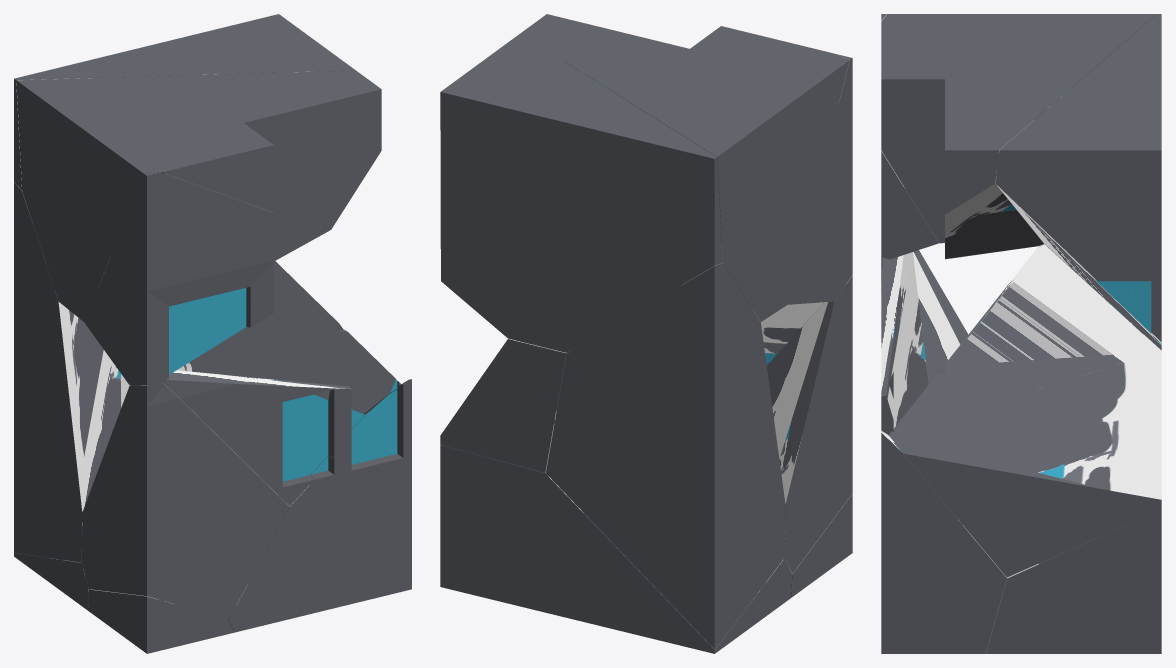
Rendered from test_hahen1.gltf.
The picture shows the model from 3 angles, left to right: view 1: azimuth 30°, elevation 25°; view 2: azimuth 150°, elevation 25°; view 3: azimuth 270°, elevation 25°; orthographic projection. The views are drawn at different scales.
Parts seen in each view (by area): view 1: bill_1_cell.003, bill_1_cell.006, bill_1_cell.011, bill_1_cell.004, bill_1_cell.009, bill_1_cell.010, bill_1_cell.005, bill_1_cell.012, bill_1_cell.001, bill_1_cell.008; view 2: bill_1_cell.012, bill_1_cell.004, bill_1_cell.003, bill_1_cell.008, bill_1_cell.006, bill_1_cell.005, bill_1_cell.011, bill_1_cell.001, bill_1_cell.010; view 3: bill_1_cell.005, bill_1_cell.003, bill_1_cell.012, bill_1_cell.009, bill_1_cell.008, bill_1_cell.010, bill_1_cell.006, bill_1_cell.011.
Part boxes in pixels (x1=…): bill_1_cell.003: x1=16, y1=70, x2=381, y2=321; bill_1_cell.006: x1=82, y1=382, x2=289, y2=618; bill_1_cell.011: x1=84, y1=172, x2=273, y2=385; bill_1_cell.004: x1=14, y1=182, x2=121, y2=562; bill_1_cell.009: x1=227, y1=379, x2=411, y2=632; bill_1_cell.010: x1=162, y1=370, x2=364, y2=506; bill_1_cell.005: x1=121, y1=261, x2=401, y2=413; bill_1_cell.012: x1=14, y1=14, x2=355, y2=190; bill_1_cell.001: x1=88, y1=589, x2=233, y2=653; bill_1_cell.008: x1=14, y1=552, x2=91, y2=610; bill_1_cell.012: x1=440, y1=33, x2=722, y2=352; bill_1_cell.004: x1=546, y1=263, x2=785, y2=649; bill_1_cell.003: x1=520, y1=14, x2=849, y2=321; bill_1_cell.008: x1=440, y1=445, x2=792, y2=653; bill_1_cell.006: x1=766, y1=275, x2=852, y2=573; bill_1_cell.005: x1=440, y1=338, x2=569, y2=472; bill_1_cell.011: x1=787, y1=54, x2=852, y2=304; bill_1_cell.001: x1=791, y1=494, x2=852, y2=597; bill_1_cell.010: x1=761, y1=302, x2=823, y2=364; bill_1_cell.005: x1=889, y1=244, x2=1161, y2=577; bill_1_cell.003: x1=881, y1=14, x2=1156, y2=259; bill_1_cell.012: x1=995, y1=14, x2=1161, y2=350; bill_1_cell.009: x1=881, y1=430, x2=1006, y2=653; bill_1_cell.008: x1=985, y1=509, x2=1161, y2=653; bill_1_cell.010: x1=881, y1=252, x2=928, y2=438; bill_1_cell.006: x1=881, y1=250, x2=968, y2=384; bill_1_cell.011: x1=881, y1=14, x2=938, y2=259.
Bounding box in the file's own units: 1.83 × 3.15 × 1.59.
1 material, 1 textured.
